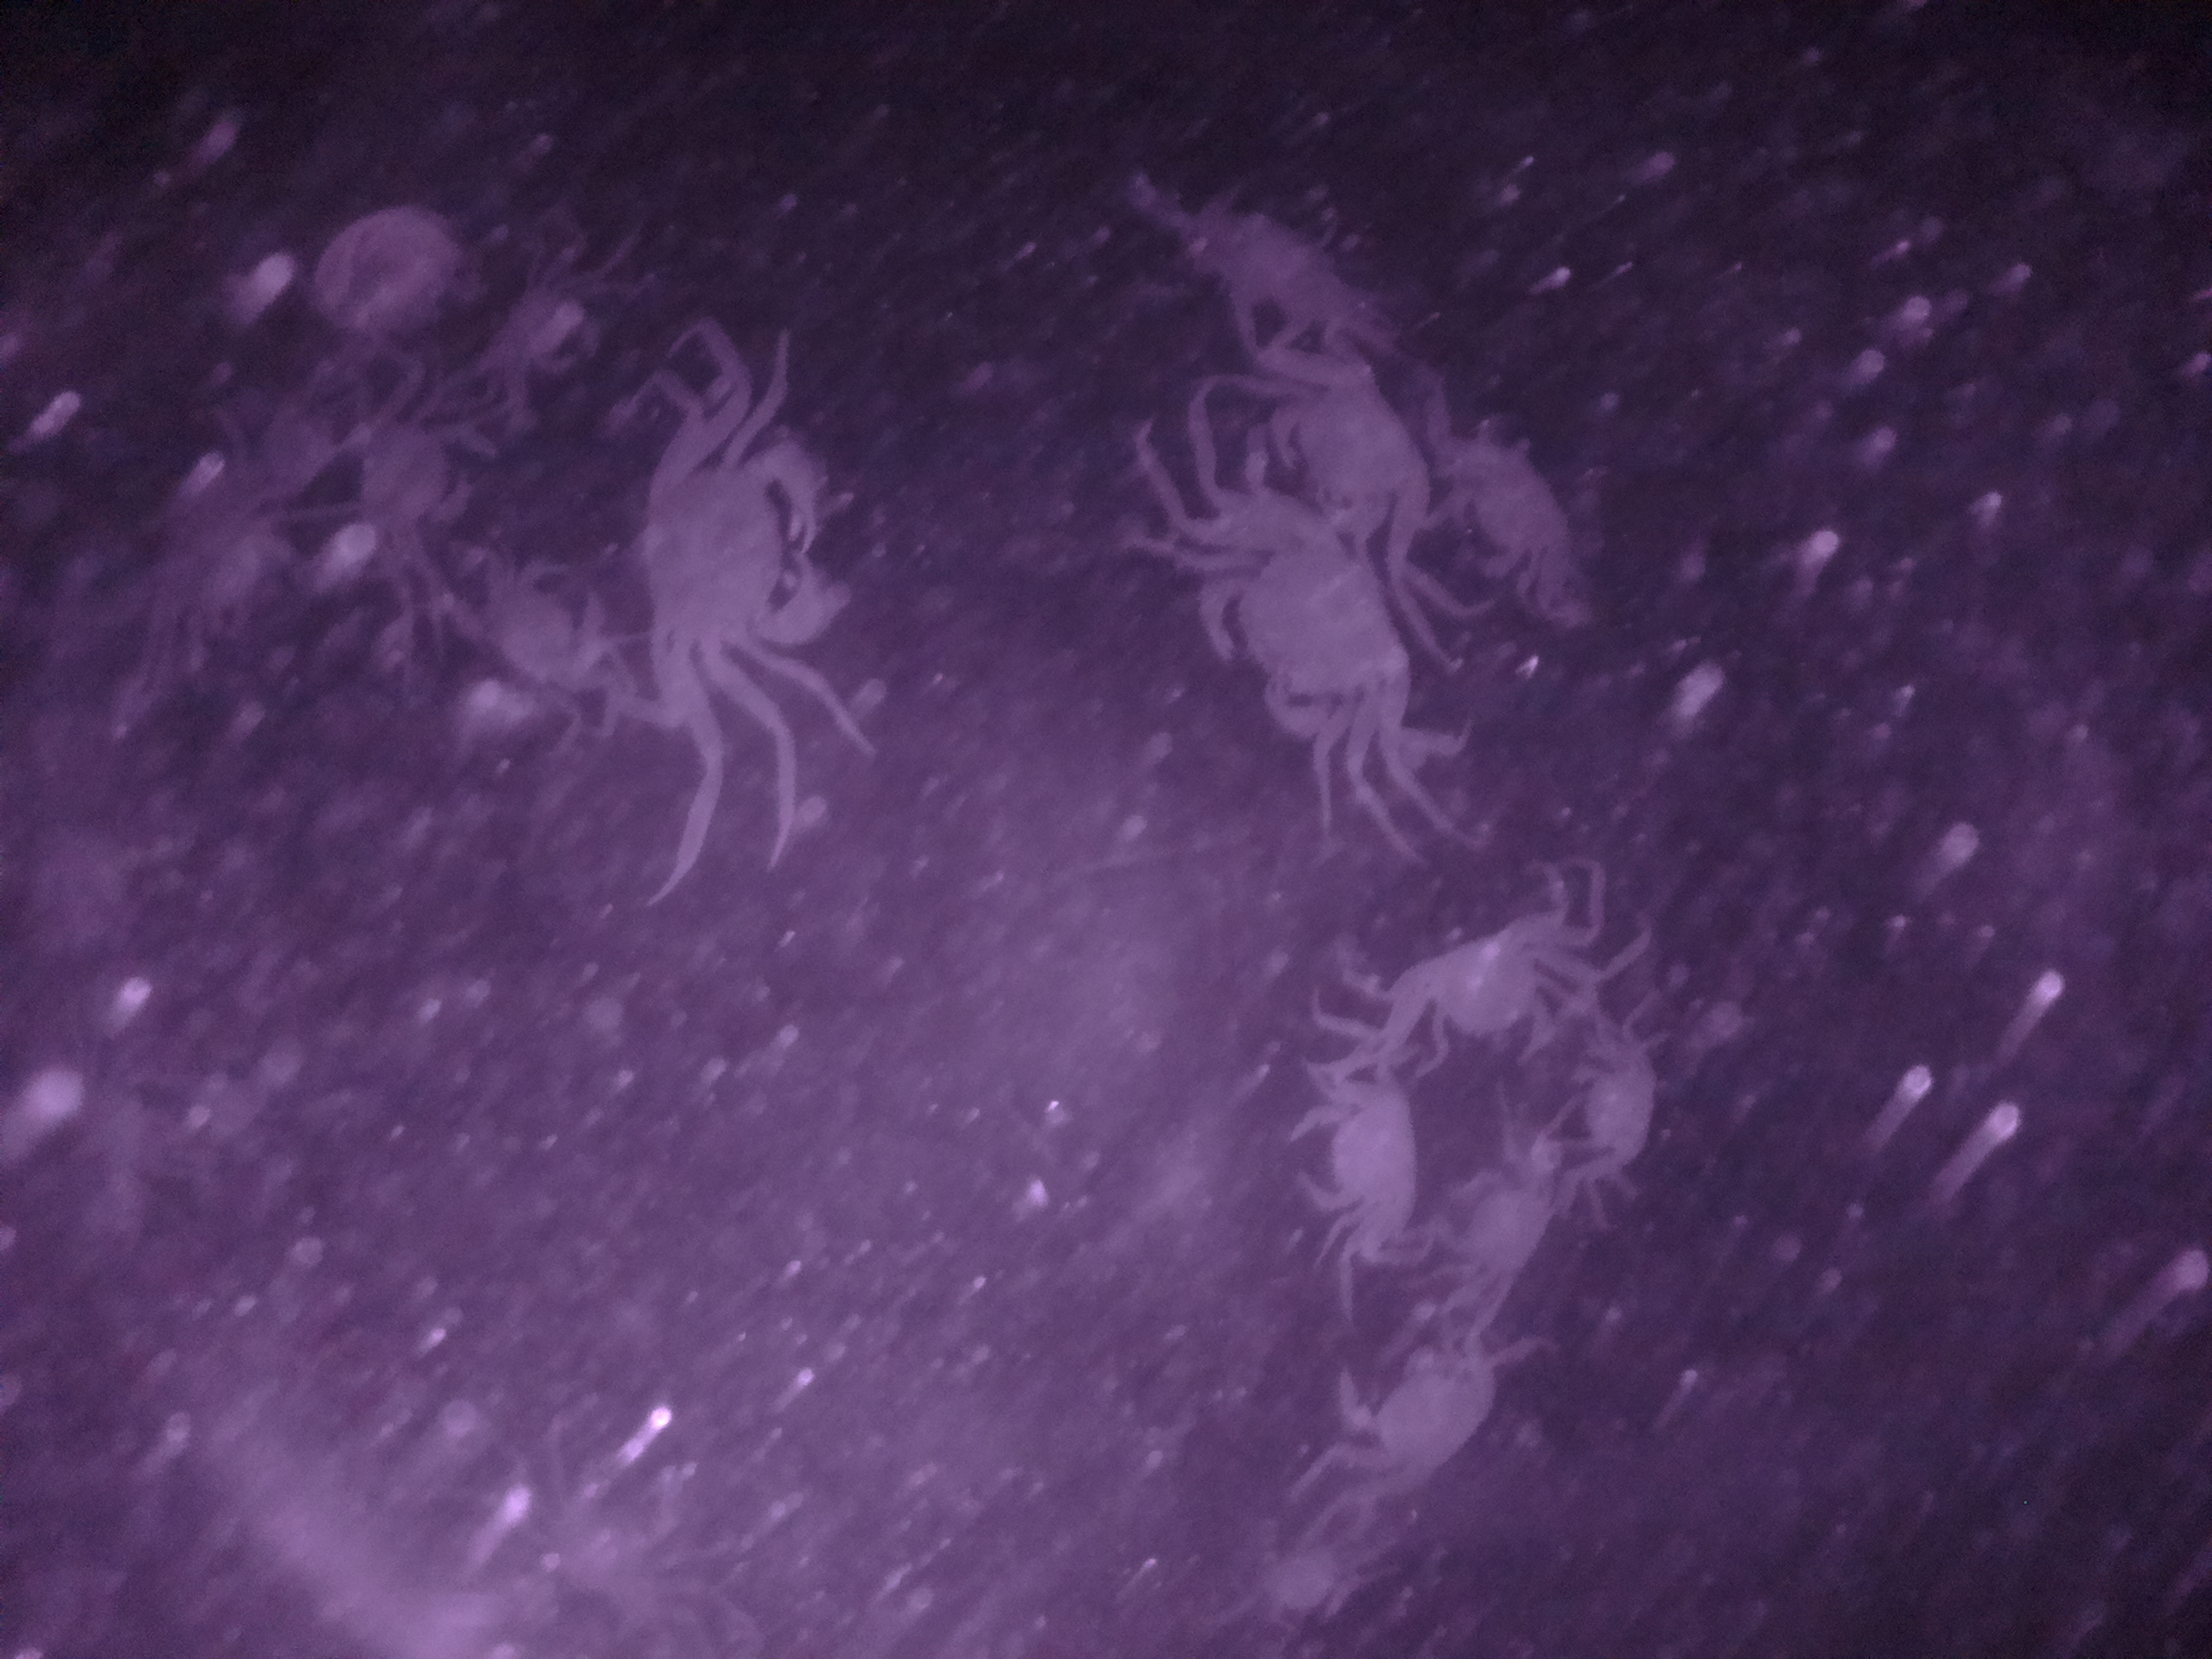Crab: (631, 420, 874, 692), (1184, 488, 1407, 758), (1334, 1312, 1521, 1492), (1379, 903, 1569, 1063), (1275, 1066, 1437, 1251), (1548, 1035, 1662, 1175)
